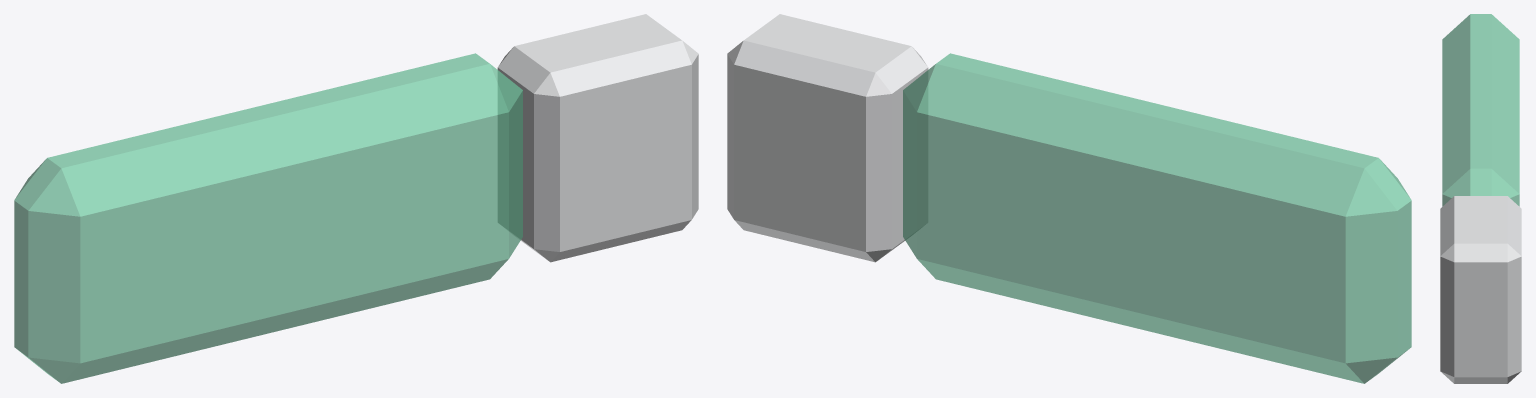
Rendered from isqueiro.glb.
3 renders of one model, left to right at view 1: azimuth 30°, elevation 25°; view 2: azimuth 150°, elevation 25°; view 3: azimuth 270°, elevation 25°, orthographic. The views are drawn at different scales.
Parts seen in each view (by area): view 1: isqueiro_isq, isqueiro_aco_polido; view 2: isqueiro_isq, isqueiro_aco_polido; view 3: isqueiro_aco_polido, isqueiro_isq.
Boxes of the visible parts, x1=… form: isqueiro_isq: x1=14, y1=53, x2=522, y2=383; isqueiro_aco_polido: x1=497, y1=14, x2=698, y2=262; isqueiro_isq: x1=903, y1=53, x2=1411, y2=383; isqueiro_aco_polido: x1=727, y1=14, x2=928, y2=262; isqueiro_aco_polido: x1=1440, y1=196, x2=1521, y2=383; isqueiro_isq: x1=1442, y1=14, x2=1519, y2=206.
Size of the model in its own units: 0.08 by 0.025 by 0.0116.
